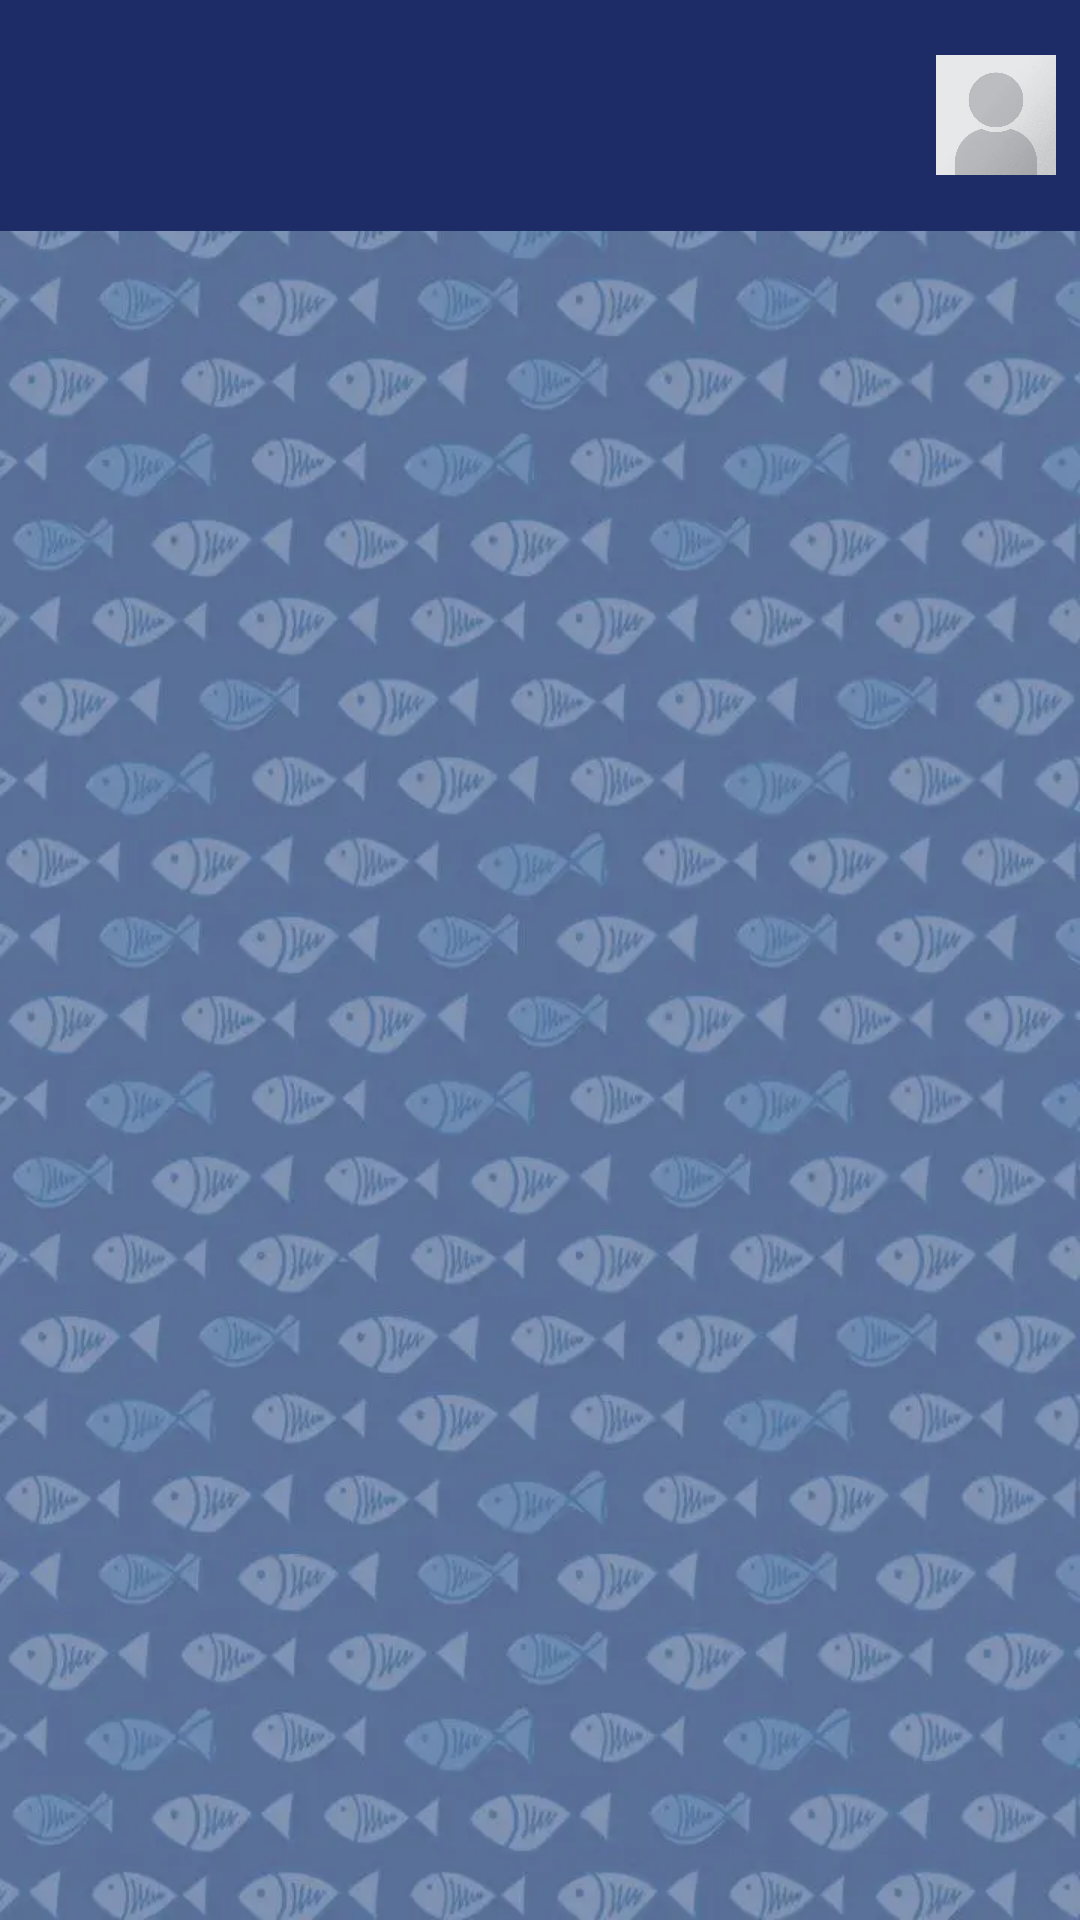

Icons on this 1080*1920 Android screen, each with its box as [left=x1, top=y1, right=x2, bottom=y2]:
Open profile: [left=936, top=55, right=1056, bottom=175]
